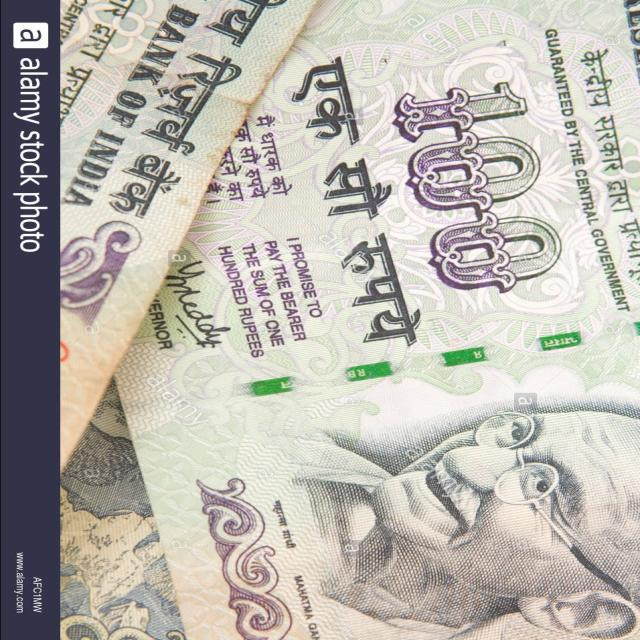100IndianRupees: (176, 4, 636, 640)
